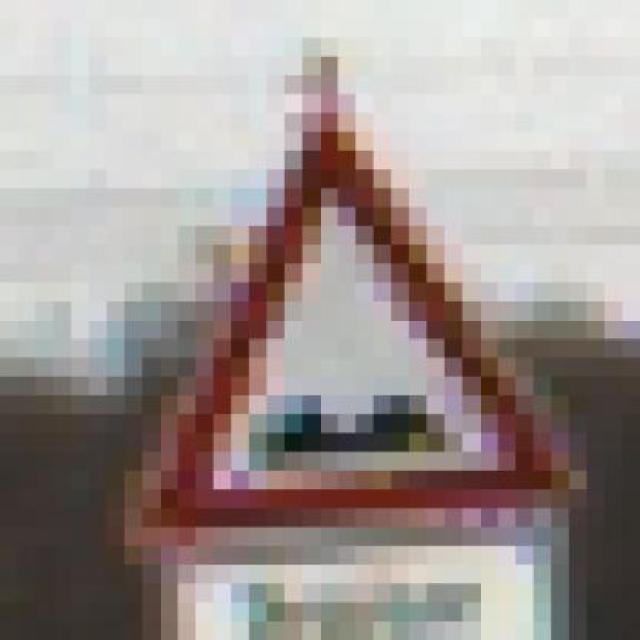Uneven Road: (89, 132, 586, 546)
